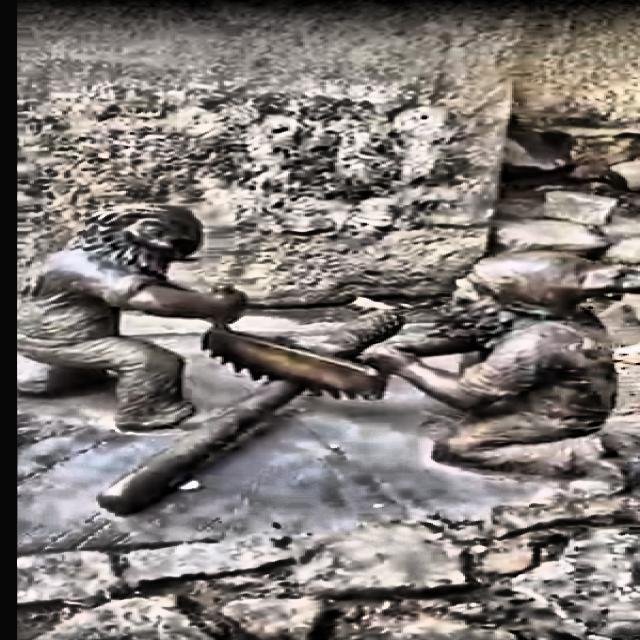Wyrostek i Zadymek: (18, 206, 638, 513)
